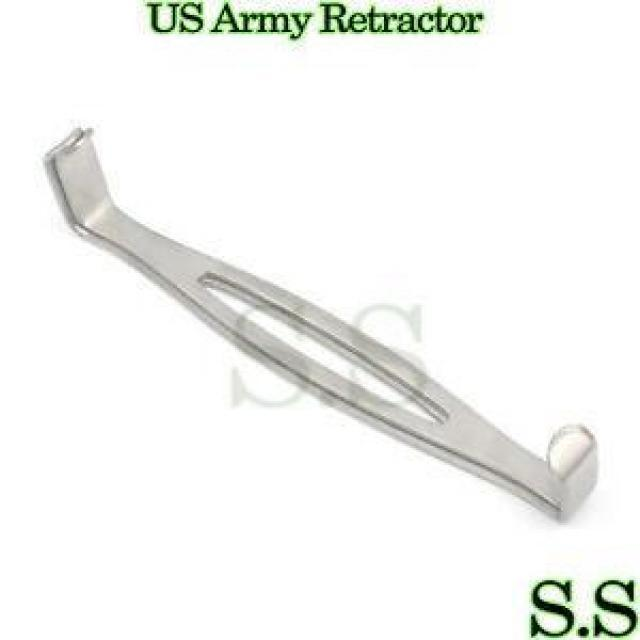Army_navy: (44, 122, 602, 527)
